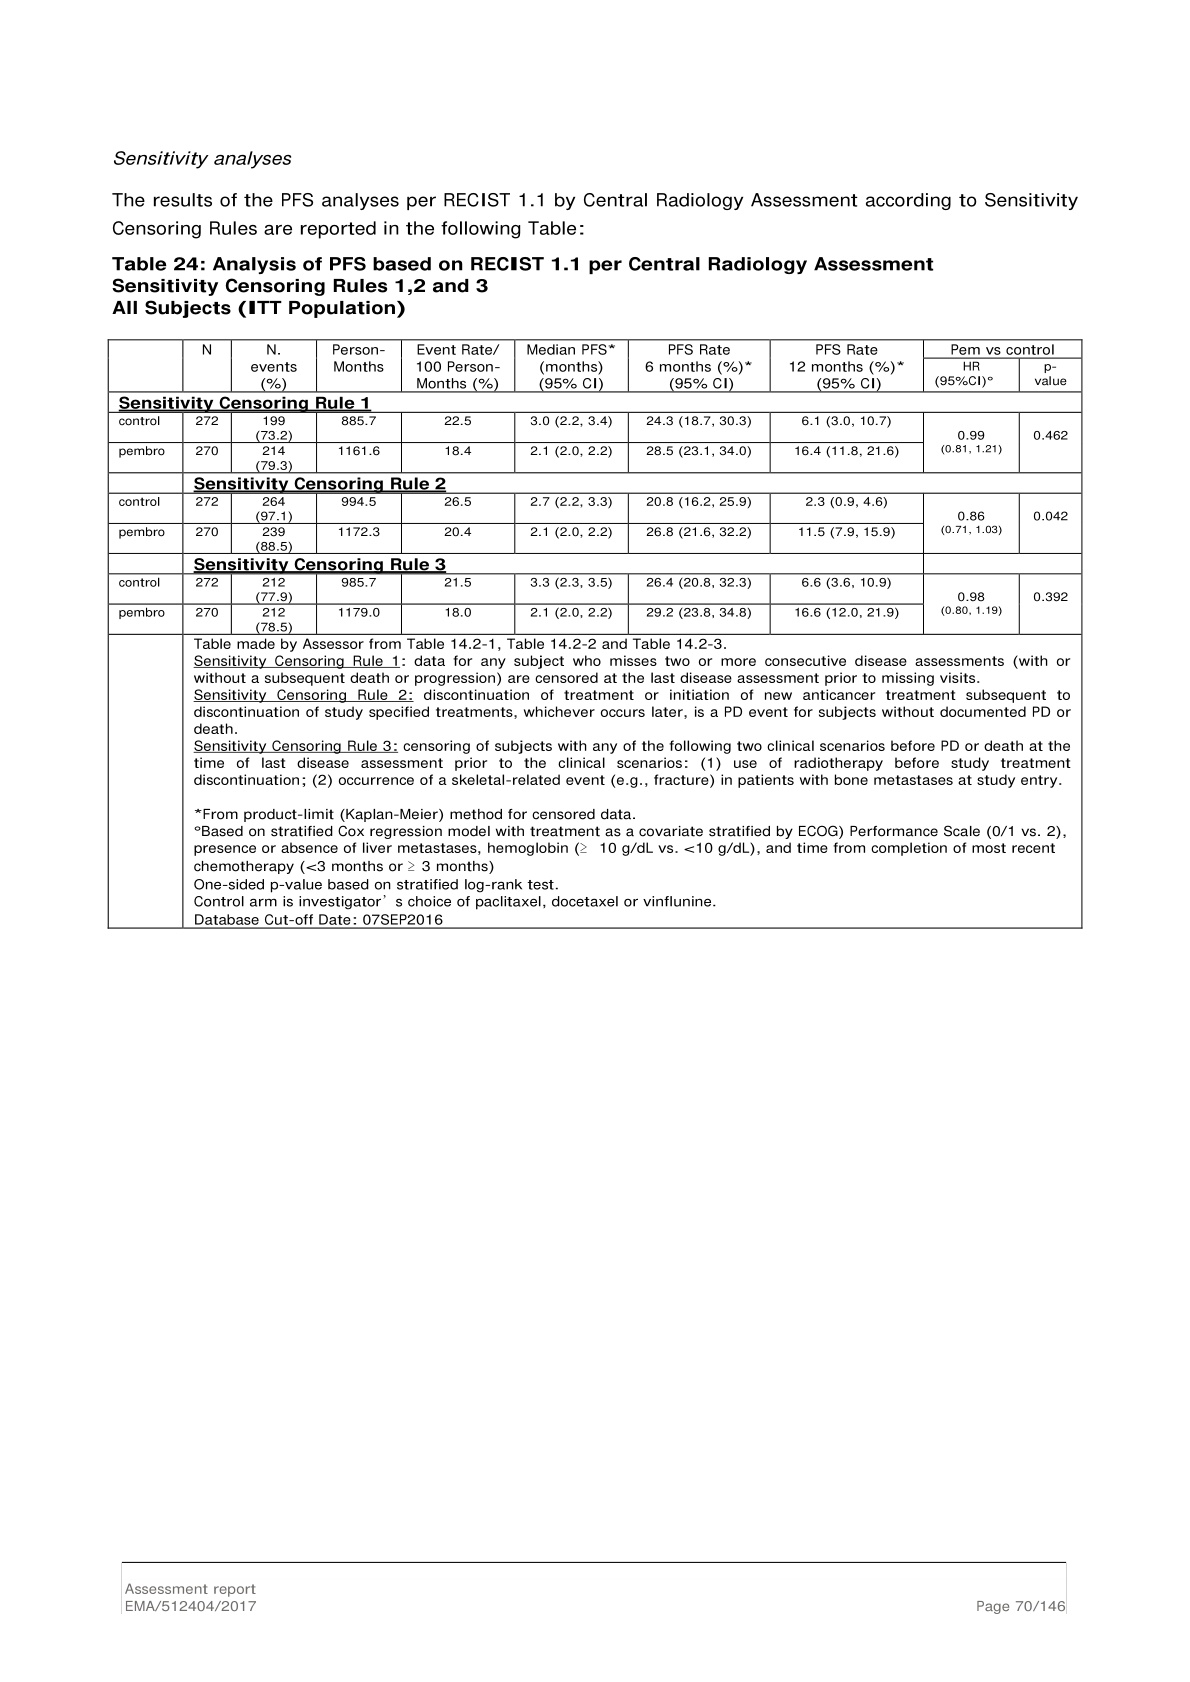merged_cells: (106, 337, 1084, 929)
